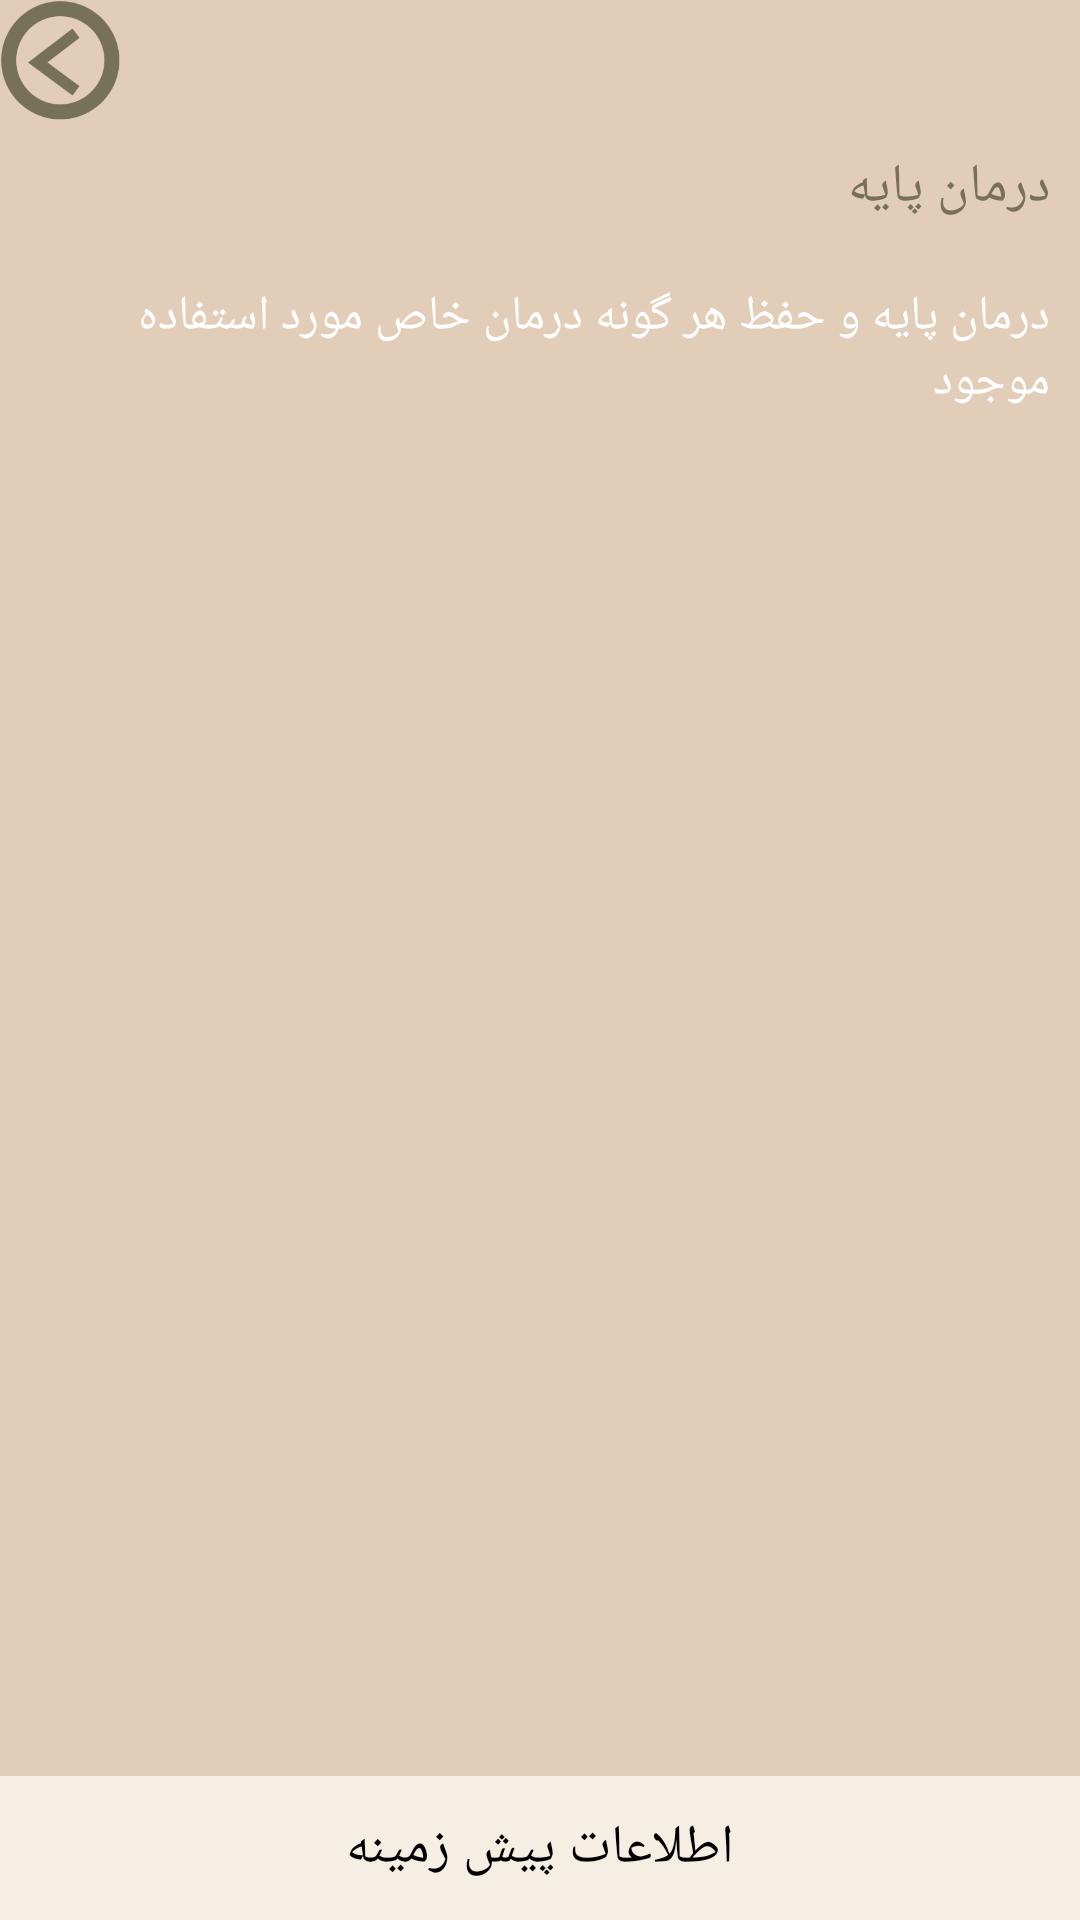

Where icons sit on this 1080x1920 app screen, as (x1, y1, x2, y2):
arrow left: (1, 1, 120, 120)
